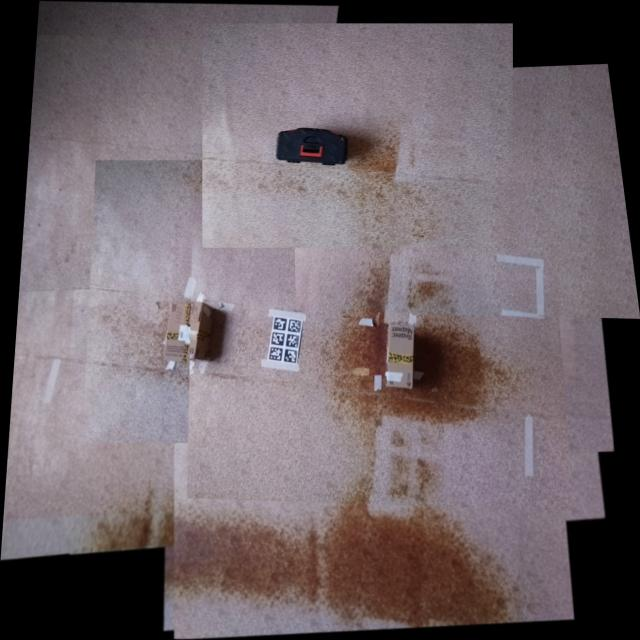boxes: (275, 126, 349, 168), (162, 298, 204, 358), (384, 323, 416, 391)
goal: (264, 314, 308, 368)
